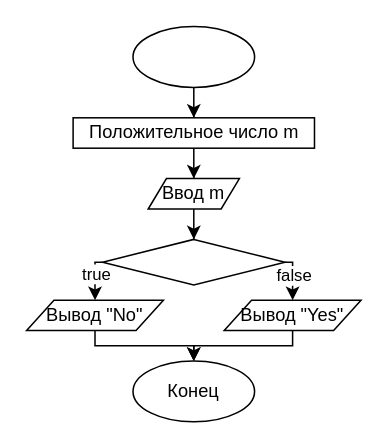
This 388x448 diagram has some shape labels left out. Here are the shapes that lost their labels. From the top down, the box of each, then its label:
(131, 25, 255, 87): Начало
(101, 238, 285, 285): m & 0b11100
